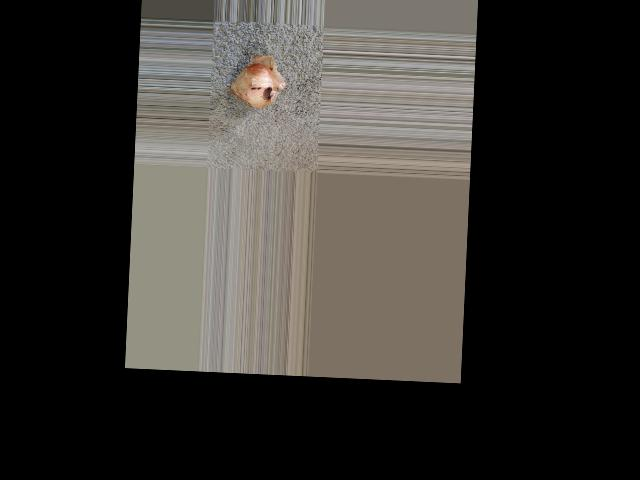onion: (231, 62, 279, 110)
